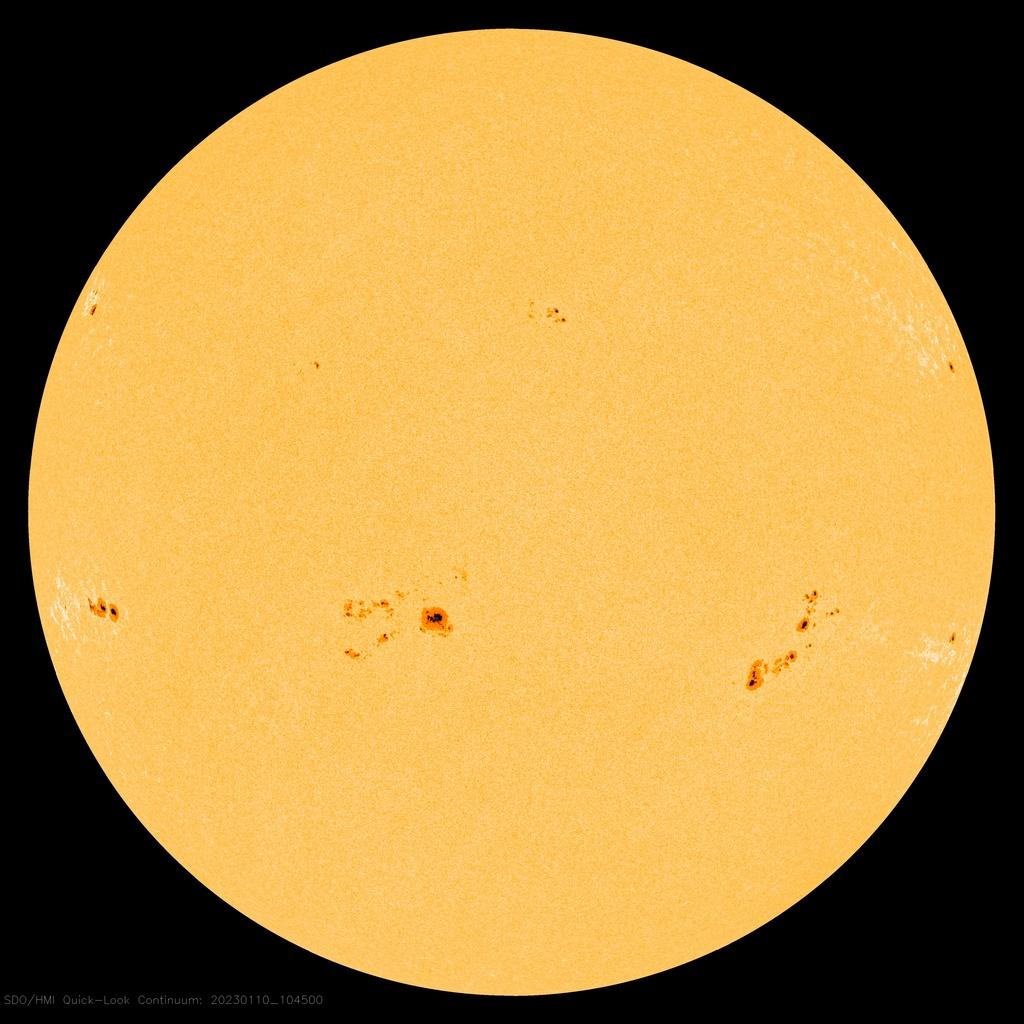flare: (324, 561, 480, 670), (734, 574, 850, 701), (520, 290, 577, 338), (80, 582, 130, 636), (942, 620, 965, 656), (937, 348, 962, 380), (304, 351, 333, 378)
